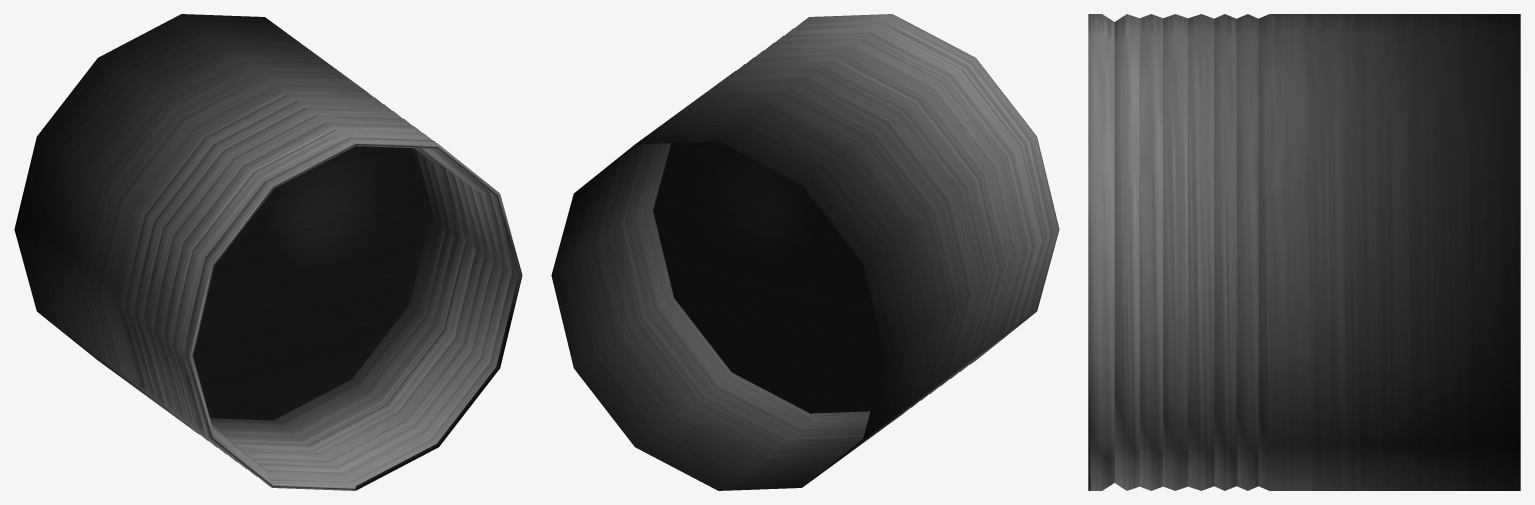
The model's file is MK_Sewer.fbx.
The picture shows the model from 3 angles, left to right: view 1: azimuth 30°, elevation 25°; view 2: azimuth 150°, elevation 25°; view 3: azimuth 270°, elevation 25°; orthographic projection. The views are drawn at different scales.
Parts seen in each view (by area): view 1: pPipe1; view 2: pPipe1; view 3: pPipe1.
Part boxes in pixels (x1=…): pPipe1: x1=14, y1=14, x2=522, y2=490; pPipe1: x1=551, y1=14, x2=1059, y2=490; pPipe1: x1=1088, y1=14, x2=1520, y2=490.
Size of the model in its own units: 2 by 2 by 1.81.
